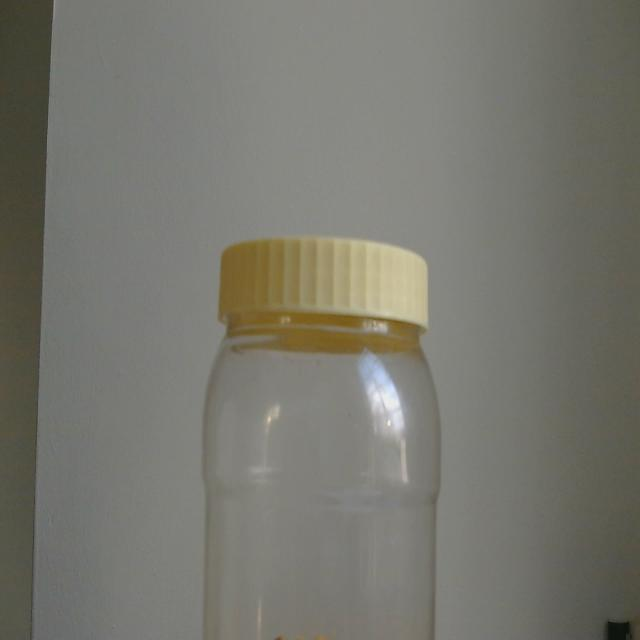cap: (211, 230, 441, 344)
